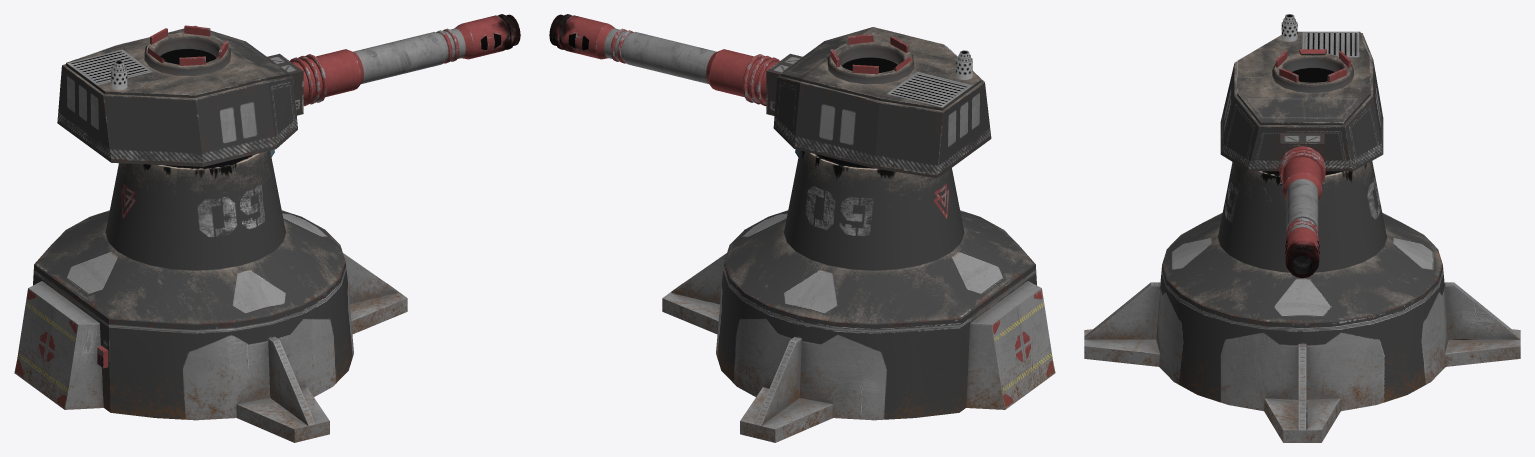
3 renders of one model, left to right at view 1: azimuth 30°, elevation 25°; view 2: azimuth 150°, elevation 25°; view 3: azimuth 270°, elevation 25°, orthographic. The views are drawn at different scales.
Visible parts, largest first — view 1: Body_low, Dome_low, Barrel_low; view 2: Body_low, Dome_low, Barrel_low; view 3: Body_low, Dome_low, Barrel_low.
Part boxes in pixels (bbox=[...]): Body_low: bbox=[14, 150, 407, 442]; Dome_low: bbox=[57, 25, 297, 166]; Barrel_low: bbox=[267, 14, 520, 115]; Body_low: bbox=[662, 149, 1055, 442]; Dome_low: bbox=[773, 27, 991, 178]; Barrel_low: bbox=[549, 14, 802, 115]; Body_low: bbox=[1084, 161, 1520, 442]; Dome_low: bbox=[1220, 14, 1383, 171]; Barrel_low: bbox=[1279, 133, 1325, 278].
Size of the model in its own units: 2 by 1.28 by 1.7.
Materials: 3 (3 with a texture image).
